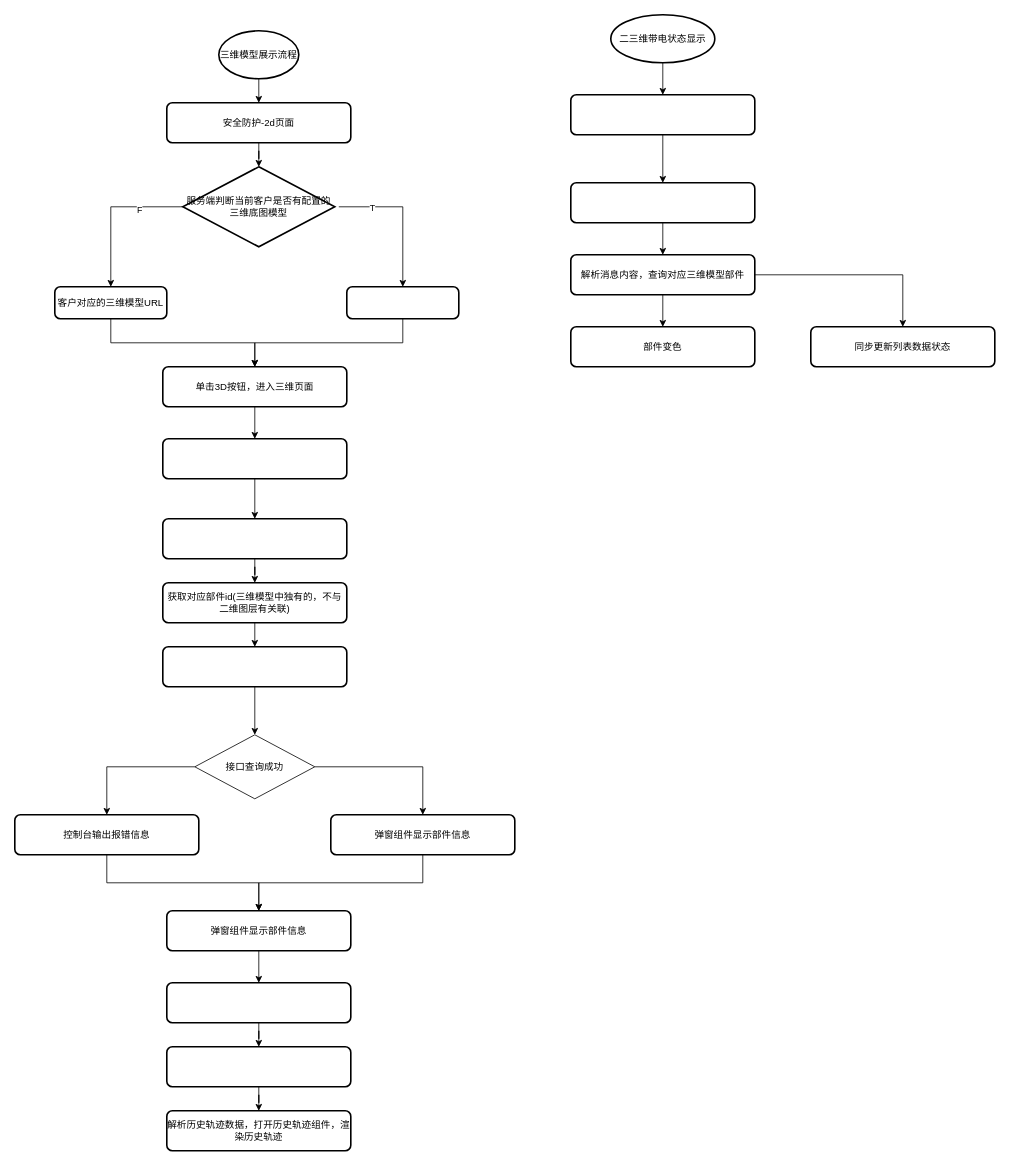
This 1009x1165 diagram has some shape labels left out. The centre of each missing label's shape, as x and y in pixels:
"前端订阅Websocket消息" belongs at [662,114].
"服务端发布websocket馈线带电状态消息" belongs at [662,202].
"根据id调用三维模型部件属性接口" belongs at [254,666].
"渲染对应模型" belongs at [254,458].
"点击历史轨迹按钮" belongs at [258,1002].
"通过接口查询历史轨迹数据" belongs at [258,1066].
"部门配置的模型URL" belongs at [402,302].
"鼠标左键点击模型部件" belongs at [254,538].
